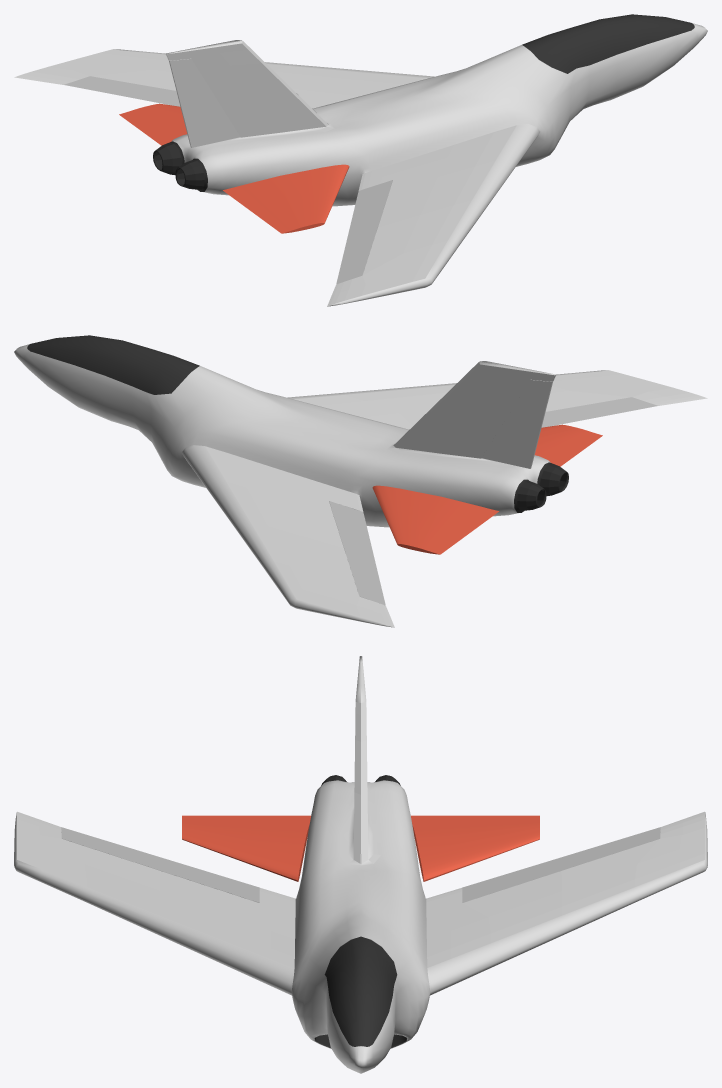
File: Ready_Plane.fbx
3 renders of one model, top to bottom at view 1: azimuth 30°, elevation 25°; view 2: azimuth 150°, elevation 25°; view 3: azimuth 270°, elevation 25°, orthographic. The views are drawn at different scales.
Visible parts, largest first — view 1: M.E.1, Wing, Aileron_R, Rudder_Aileron, wing_Aileron_R, Aileron_L, wing_Aileron_L; view 2: M.E.1, Wing, Aileron_L, Rudder_Aileron, wing_Aileron_L, Aileron_R, wing_Aileron_R; view 3: Wing, M.E.1, Aileron_L, Aileron_R, wing_Aileron_L, wing_Aileron_R.
Boxes of the visible parts, x1=… form: M.E.1: x1=153, y1=14, x2=707, y2=206; Wing: x1=14, y1=49, x2=540, y2=306; Aileron_R: x1=223, y1=164, x2=349, y2=233; Rudder_Aileron: x1=169, y1=58, x2=240, y2=147; wing_Aileron_R: x1=336, y1=180, x2=392, y2=284; Aileron_L: x1=119, y1=103, x2=187, y2=145; wing_Aileron_L: x1=64, y1=76, x2=180, y2=106; M.E.1: x1=14, y1=335, x2=568, y2=527; Wing: x1=181, y1=370, x2=707, y2=627; Aileron_L: x1=372, y1=485, x2=498, y2=554; Rudder_Aileron: x1=481, y1=379, x2=552, y2=468; wing_Aileron_L: x1=329, y1=501, x2=385, y2=605; Aileron_R: x1=534, y1=424, x2=602, y2=466; wing_Aileron_R: x1=541, y1=397, x2=657, y2=427; Wing: x1=14, y1=811, x2=707, y2=995; M.E.1: x1=291, y1=656, x2=430, y2=1073; Aileron_L: x1=411, y1=815, x2=539, y2=881; Aileron_R: x1=182, y1=815, x2=310, y2=881; wing_Aileron_L: x1=462, y1=827, x2=660, y2=902; wing_Aileron_R: x1=61, y1=827, x2=259, y2=902.
Size of the model in its own units: 1831 by 632 by 1851.
